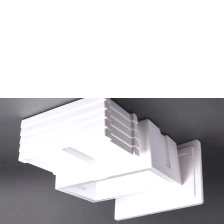foam_box: (51, 115, 186, 205), (14, 98, 143, 178), (110, 137, 207, 223)
